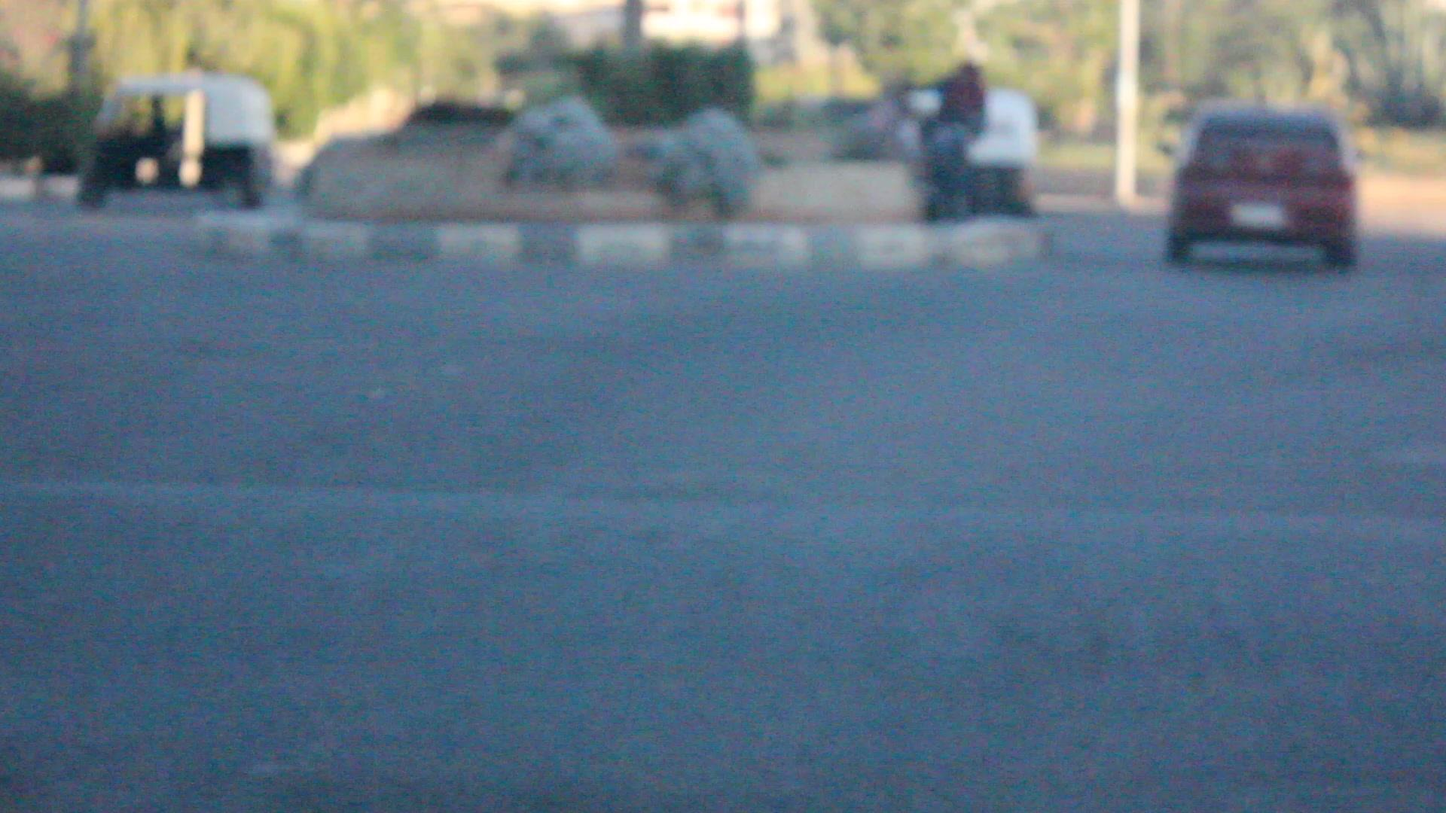Bump: (0, 469, 1446, 794)
